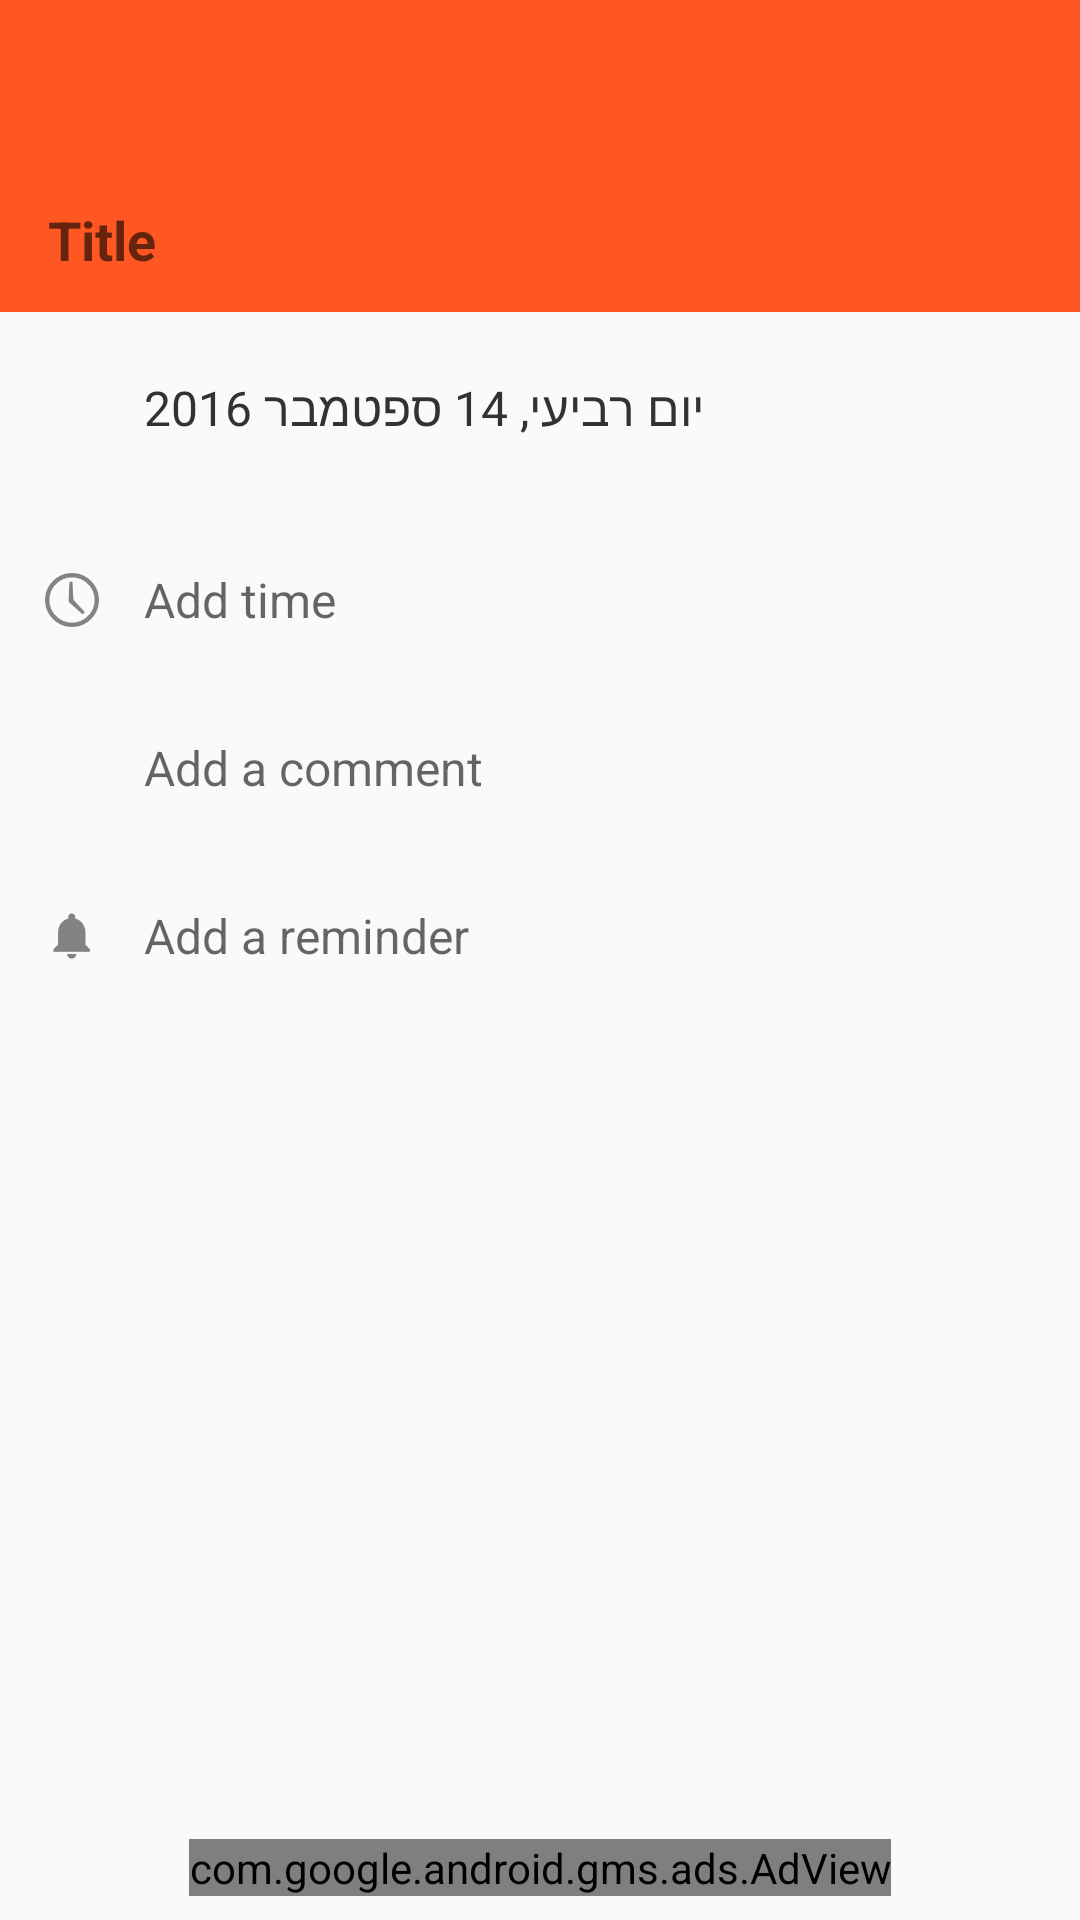

Icon click points for this 1080px x 1920px phone screenshot, format (x,y):
clock: (72,600)
